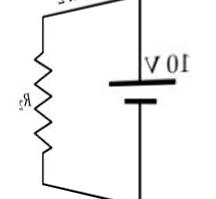resistor: (32, 38, 59, 158)
